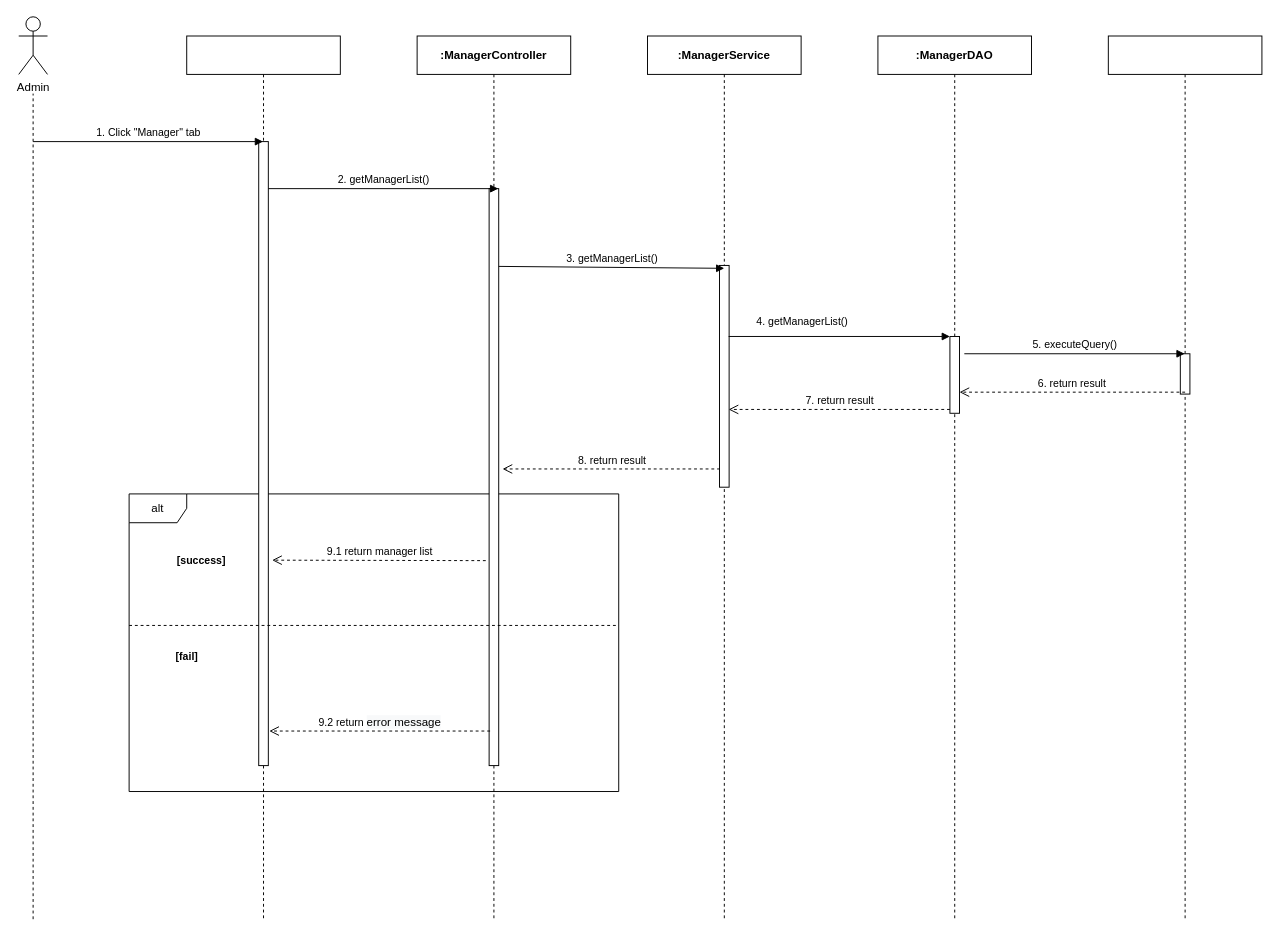
The diagram is 1279 pixels wide and 937 high, and some of its shapes have lost their labels. The box of each missing label's shape, as (x1, y1, x2, y2) in pixels:
Browser: (186, 35, 340, 919)
Database: (1107, 35, 1262, 919)
